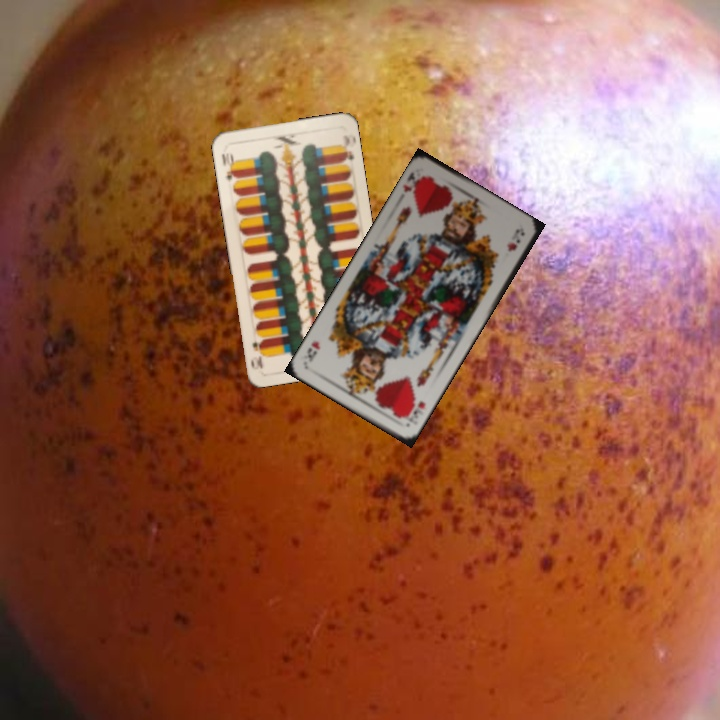E10: (217, 149, 239, 185)
HK: (399, 167, 427, 200), (402, 397, 428, 424)
